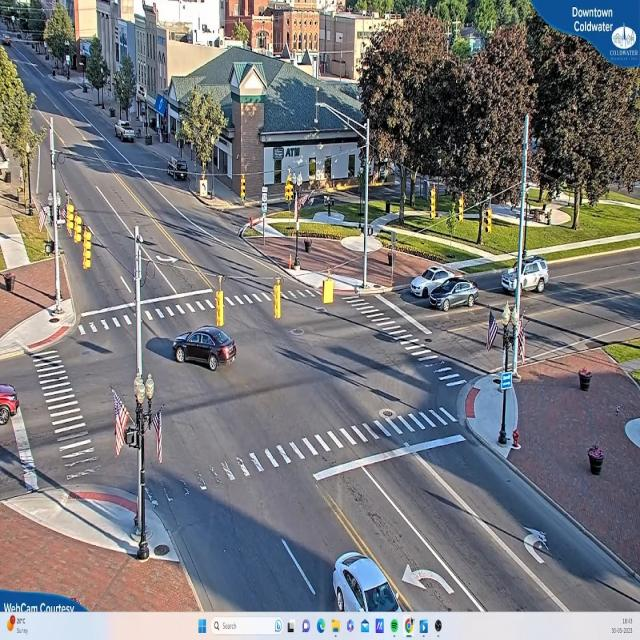car: (334, 554, 404, 613), (174, 324, 238, 370), (409, 267, 467, 300), (500, 260, 548, 298), (428, 280, 480, 310), (1, 384, 22, 423), (117, 122, 137, 144)
